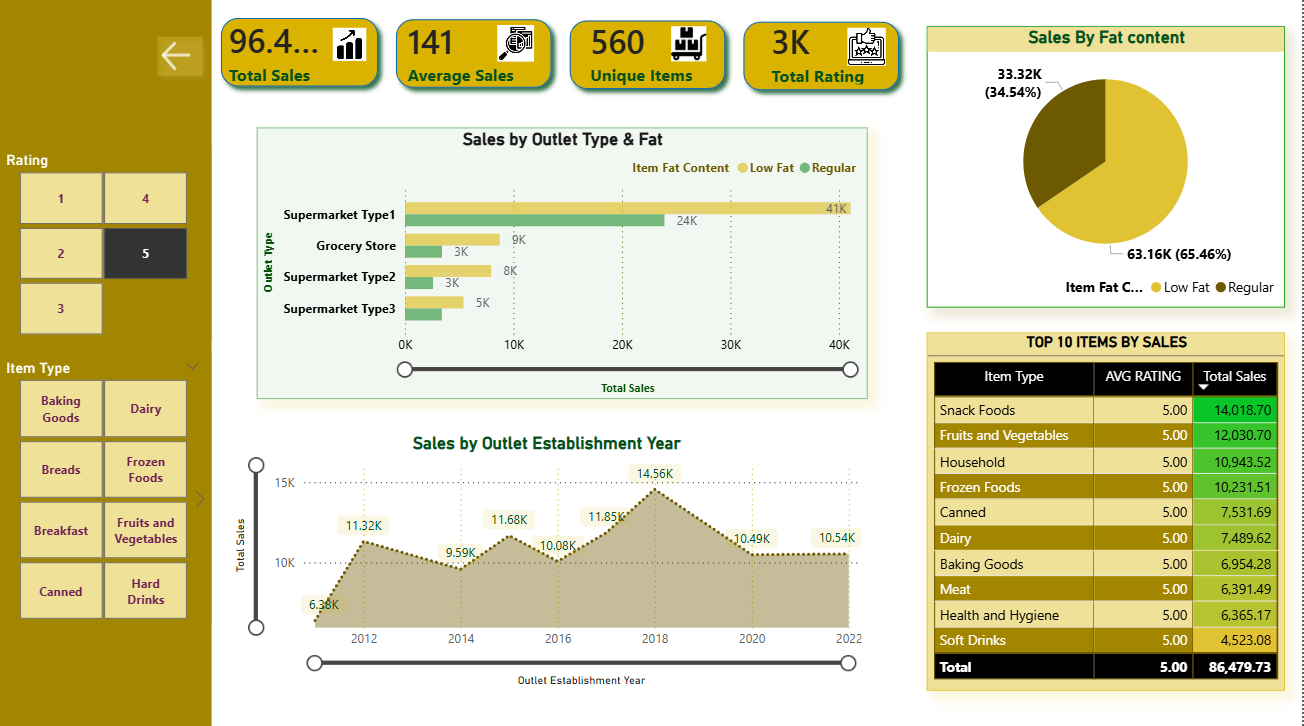

The dashboard page shown, as its layout file describes it:
{"tool":"powerbi","page":{"name":"BLINKIT DATA","canvas":[1280,720],"ordinal":0},"visuals":[{"type":"shape","box":[0,0,187.6,719.9],"z":0,"group":"g1"},{"type":"shape","box":[213.5,13,171.7,85.1],"z":0},{"type":"shape","box":[385.2,14.4,170.2,85.1],"z":1000},{"type":"actionButton","box":[122.6,139.9,64.9,60.6],"z":1000,"group":"g1"},{"type":"shape","box":[555.5,15.9,170.2,85.1],"z":2000},{"type":"actionButton","box":[44,436.6,100.3,95.4],"z":2000,"group":"g1"},{"type":"shape","box":[725.7,17.3,170.2,85.1],"z":3000},{"type":"actionButton","box":[44,573.5,100.3,95.4],"z":3000,"group":"g1"},{"type":"cardVisual","fields":{"Data":["Measure.Unique Items"]},"box":[555.5,5.8,194.8,164.5],"z":4000},{"type":"actionButton","box":[44.7,275.6,101,85.1],"z":4000,"group":"g1"},{"type":"cardVisual","fields":{"Data":["Measure.Average Sales"]},"box":[376.6,5.8,194.8,164.5],"z":5000},{"type":"textbox","box":[2.9,13,170.2,75],"z":5000,"group":"g1"},{"type":"cardVisual","fields":{"Data":["Measure.Total Sales"]},"box":[202,8.7,152.9,152.9],"z":6000},{"type":"textbox","box":[7.2,67.8,171.7,39],"z":6000,"group":"g1"},{"type":"cardVisual","fields":{"Data":["Measure.Average Rating"]},"box":[732.9,8.7,155.8,96.7],"z":7000},{"type":"lineChart","title":"Sales by Outlet Establishment Year","fields":{"Category":["BlinkIT Grocery Data.Outlet Establishment Year"],"Y":["measure.Total Sales"]},"box":[228.7,428,626.1,253.1],"z":8000},{"type":"pieChart","title":"Sales By Fat content","fields":{"Category":["BlinkIT Grocery Data.Item Fat Content"],"Y":["measure.Total Sales"]},"box":[913.3,30.3,350.6,275.6],"z":9000},{"type":"image","box":[300.1,31.7,98.1,33.2],"z":10000},{"type":"image","box":[434.3,28.9,154.4,36.1],"z":11000},{"type":"image","box":[782,31.7,145.7,37.5],"z":12000},{"type":"image","box":[653.6,30.3,54.8,34.6],"z":13000},{"type":"clusteredBarChart","title":"Sales by Outlet Type & Fat","fields":{"Category":["BlinkIT Grocery Data.Outlet Type"],"Series":["BlinkIT Grocery Data.Item Fat Content"],"Y":["measure.Total Sales"]},"box":[258.3,129.8,597.3,265.5],"z":14000},{"type":"tableEx","title":"TOP 10 ITEMS BY SALES","fields":{"Values":["BlinkIT Grocery Data.Item Type","BlinkIT Grocery Data.AVG RATING","measure.Total Sales"]},"box":[913.3,330.4,350.6,350.6],"z":15000},{"type":"group","id":"g1","title":"visual 1","box":[0,0,187.6,719.9],"z":16000}]}

Visuals, with their boxes in screenshot pixels (x1, y1, x2, y2), scaled from the page's 1280x720 canvas onto the 1304x726 screenshot:
shape: crop(0, 0, 191, 725)
shape: crop(218, 13, 392, 99)
shape: crop(392, 15, 566, 100)
actionButton: crop(125, 141, 191, 202)
shape: crop(566, 16, 739, 102)
actionButton: crop(45, 440, 147, 536)
shape: crop(739, 17, 913, 103)
actionButton: crop(45, 578, 147, 674)
cardVisual - Measure.Unique Items: crop(566, 6, 764, 172)
actionButton: crop(46, 278, 148, 364)
cardVisual - Measure.Average Sales: crop(384, 6, 582, 172)
textbox: crop(3, 13, 176, 89)
cardVisual - Measure.Total Sales: crop(206, 9, 362, 163)
textbox: crop(7, 68, 182, 108)
cardVisual - Measure.Average Rating: crop(747, 9, 905, 106)
"Sales by Outlet Establishment Year" lineChart: crop(233, 432, 871, 687)
"Sales By Fat content" pieChart: crop(930, 31, 1288, 308)
image: crop(306, 32, 406, 65)
image: crop(442, 29, 600, 66)
image: crop(797, 32, 945, 70)
image: crop(666, 31, 722, 65)
"Sales by Outlet Type & Fat" clusteredBarChart: crop(263, 131, 872, 399)
"TOP 10 ITEMS BY SALES" tableEx: crop(930, 333, 1288, 687)
"visual 1" group: crop(0, 0, 191, 725)
